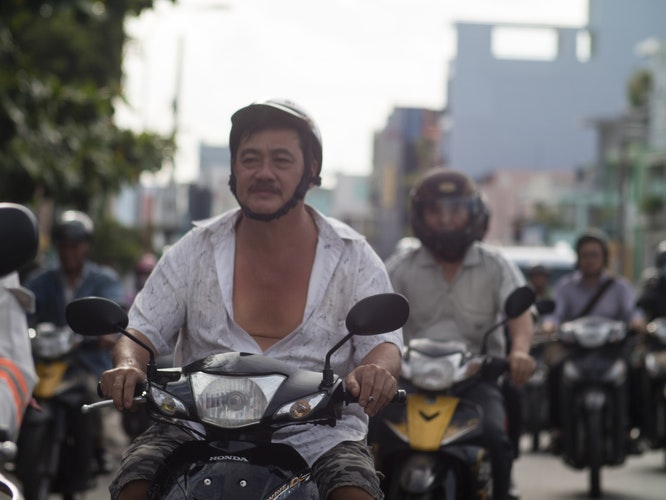helmet: (224, 87, 340, 162), (412, 170, 485, 253)
